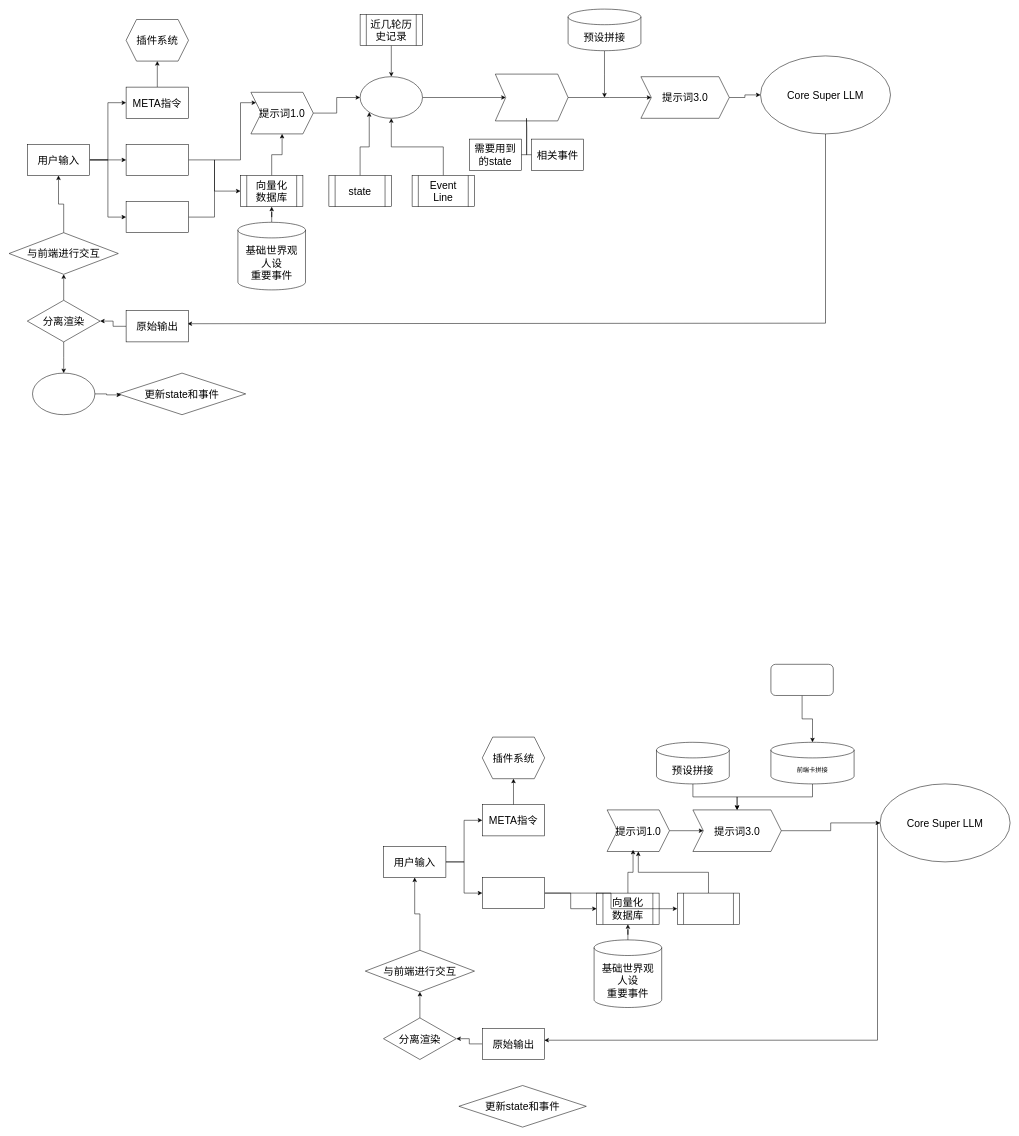
The diagram is 1019 pixels wide and 1136 high, and some of its shapes have lost their labels. Here are the shapes that lost their labels. From the top down, the centre of each, then its label:
the point at 391,97: 小LLM
the point at 531,97: 提示词2.0
the point at 157,160: 对话内容
the point at 157,217: 行动内容
the point at 63,394: 小LLM2.0
the point at 801,680: 角色卡
the point at 513,893: 其他内容
the point at 708,908: 常驻世界观
